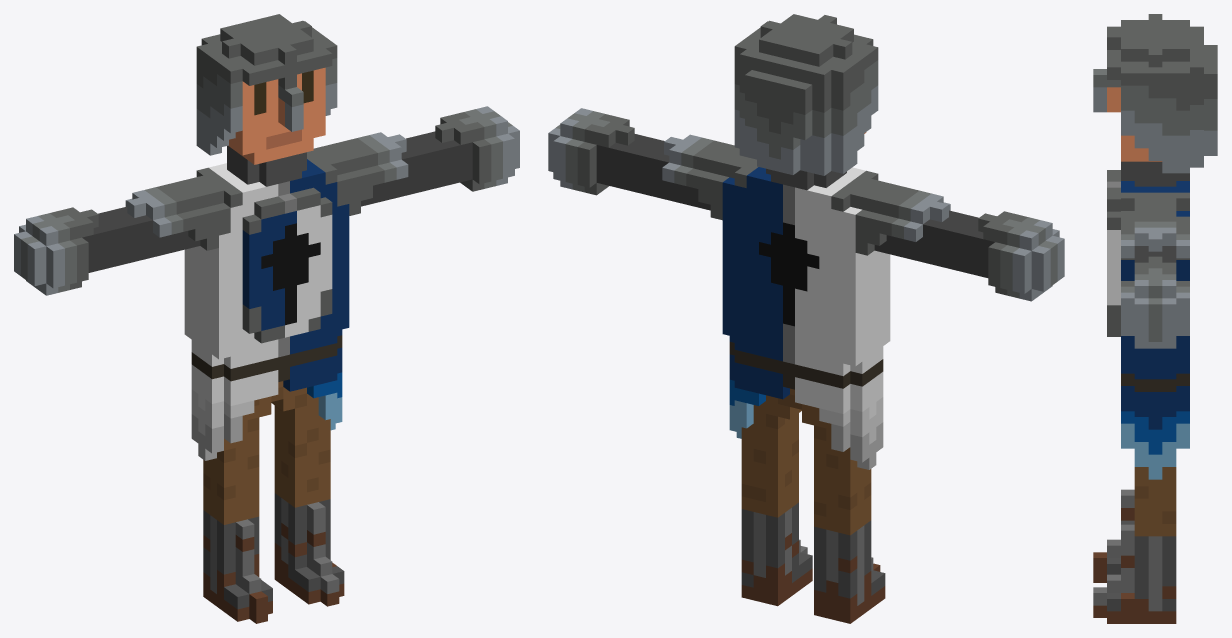
The model's file is Enemy 2.obj.
3 renders of one model, left to right at view 1: azimuth 30°, elevation 25°; view 2: azimuth 150°, elevation 25°; view 3: azimuth 270°, elevation 25°, orthographic. The views are drawn at different scales.
Parts seen in each view (by area): view 1: Enemy 2; view 2: Enemy 2; view 3: Enemy 2.
Part boxes in pixels (bbox=[...]): Enemy 2: bbox=[14, 14, 519, 623]; Enemy 2: bbox=[548, 14, 1064, 623]; Enemy 2: bbox=[1093, 14, 1217, 623].
Bounding box in the file's own units: 41 × 45 × 9.
1 material, 1 textured.
